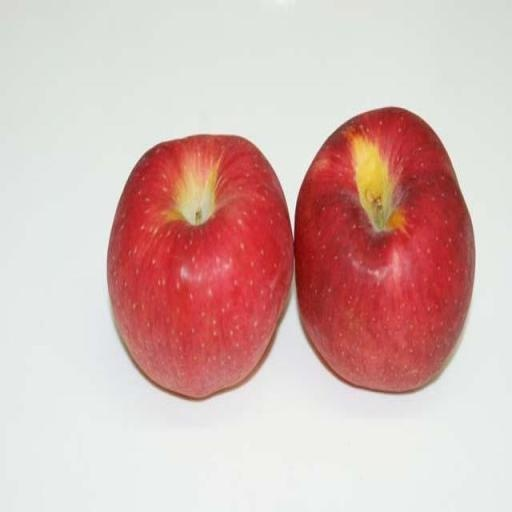fruit: (295, 108, 474, 391), (108, 136, 291, 397)
